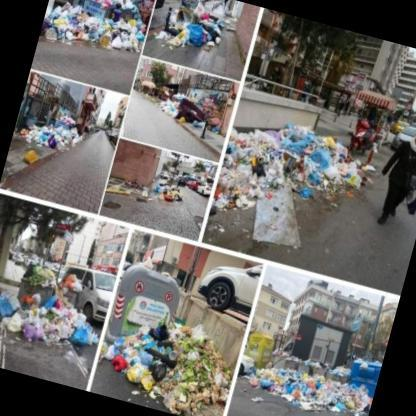Garbage: (244, 130, 340, 226), (118, 355, 209, 415), (292, 132, 347, 211), (226, 132, 274, 204), (37, 302, 94, 362), (138, 320, 208, 368), (101, 328, 154, 380), (0, 289, 51, 341), (40, 0, 93, 49), (272, 128, 330, 172), (302, 369, 357, 415), (248, 366, 298, 406), (170, 15, 218, 56), (90, 23, 140, 61), (33, 122, 84, 154), (280, 375, 314, 415), (341, 382, 370, 415), (27, 260, 56, 284), (310, 359, 344, 377), (154, 98, 181, 118), (154, 188, 175, 206)
